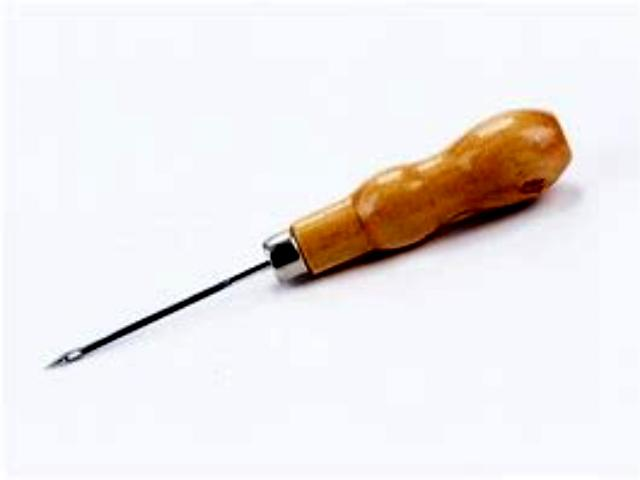ice pick: (51, 106, 577, 372)
